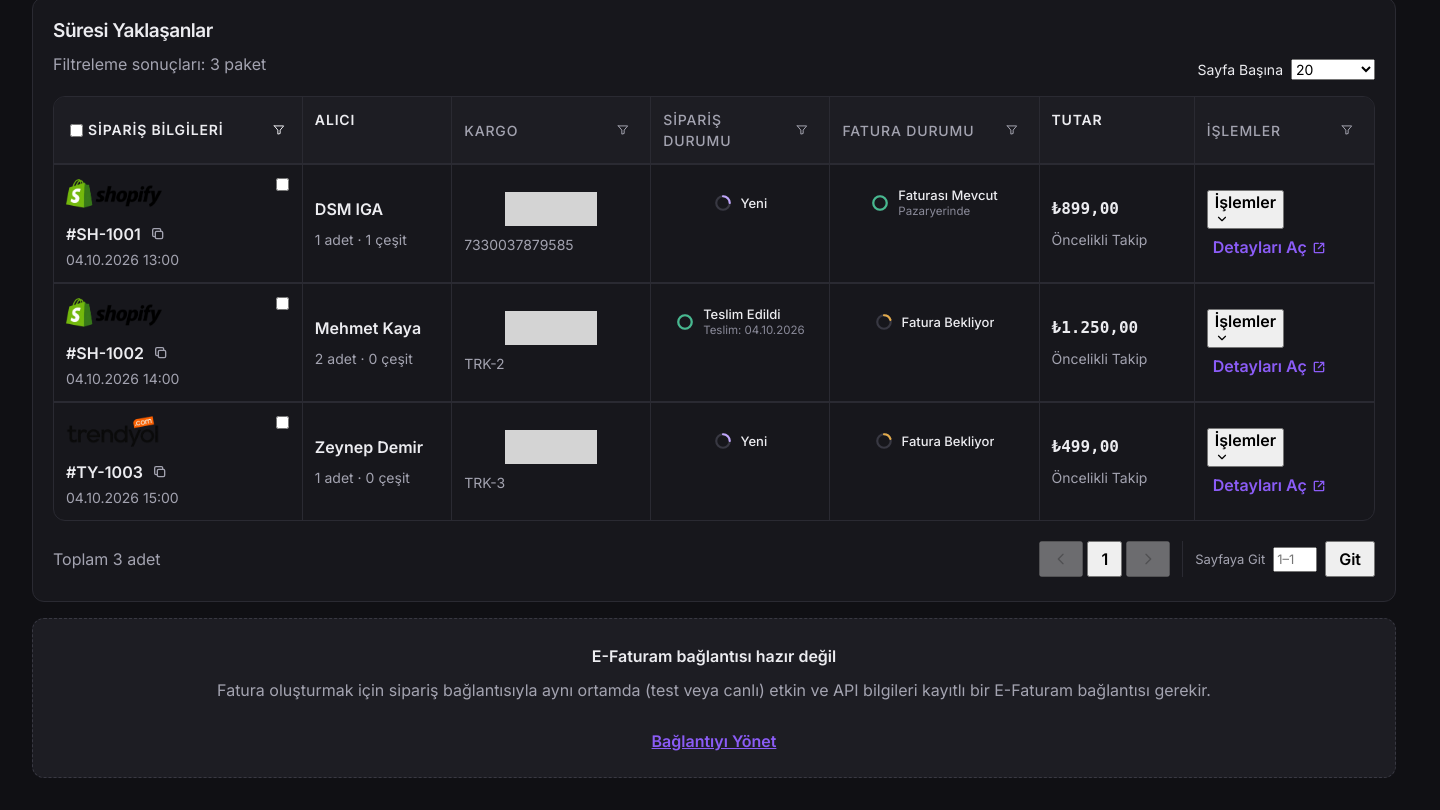
Test: InvoicesPage Shopify bulk invoice status › shows every invoice operation and locks actions that are unavailable for the Trendyol order
(page scrolled)
Click the button with class "invoice-reference-actions-trigger" in the row of "#TY-1003" at coordinates (1245, 447), box [1207,428,1284,467]
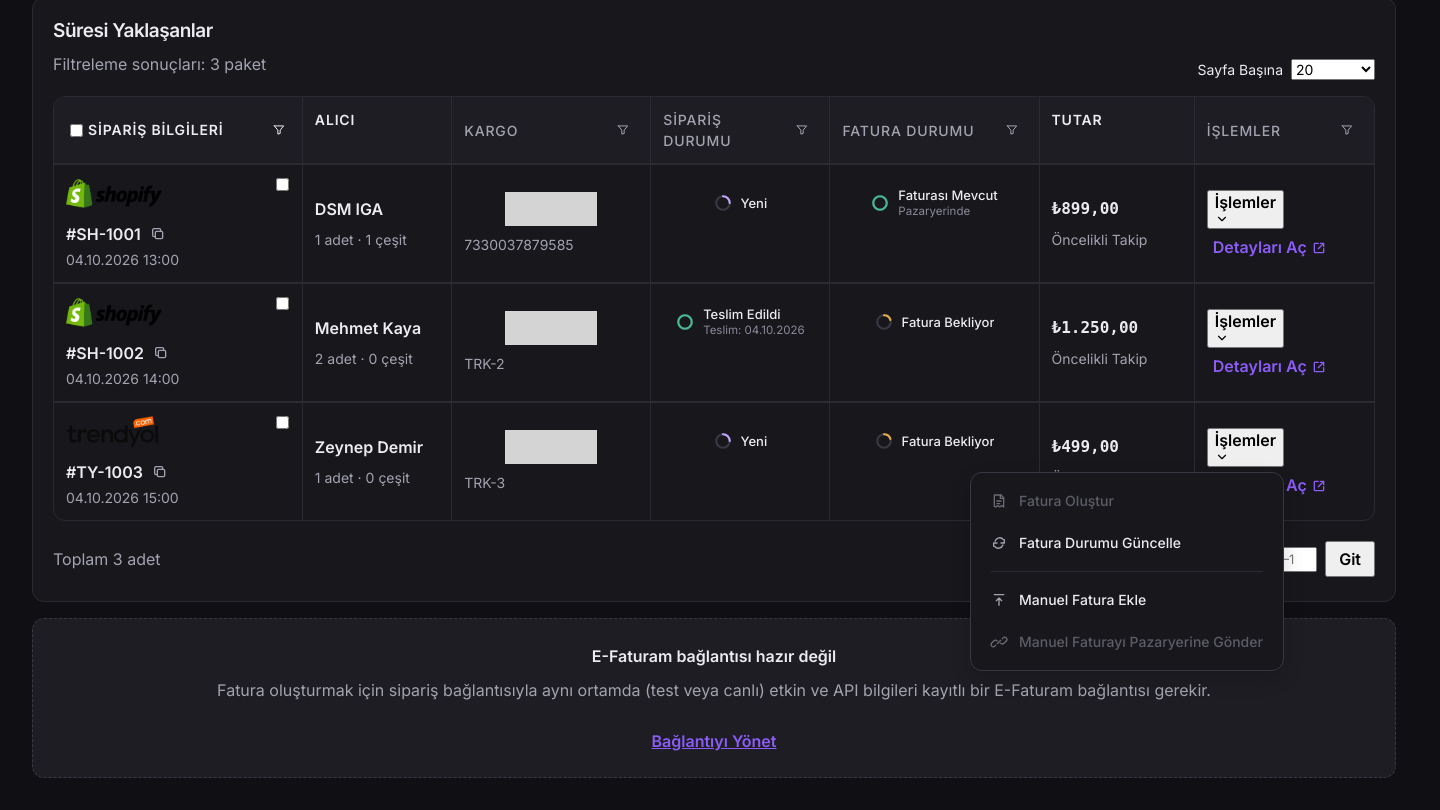
Check: the menu item "Fatura Oluştur" is disabled, box [979,481,1275,521]
Check: the menu item "Manuel Fatura Ekle" is enabled, box [979,580,1275,620]
Check: the menu item "Manuel Faturayı Pazaryerine Gönder" is disabled, box [979,622,1275,662]
